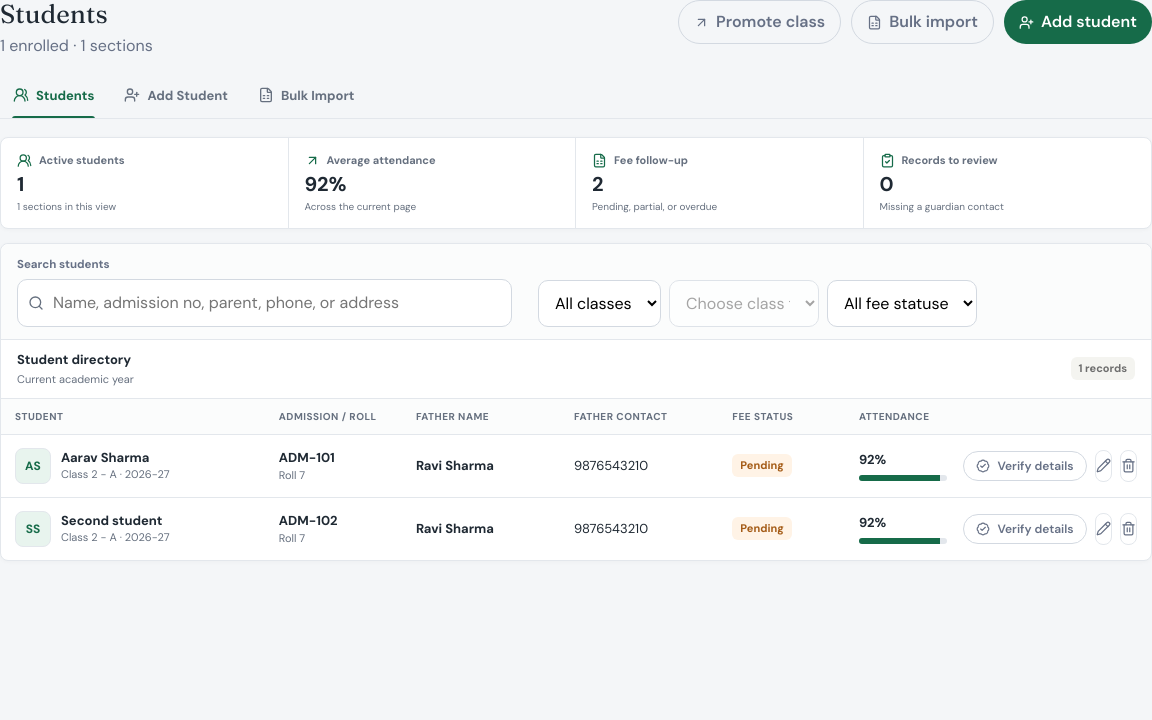
Test case: StudentsPanel › discards history from the closed selection after a different student is opened
Click the text "Aarav Sharma" at (105, 457), box [61,449,149,466]
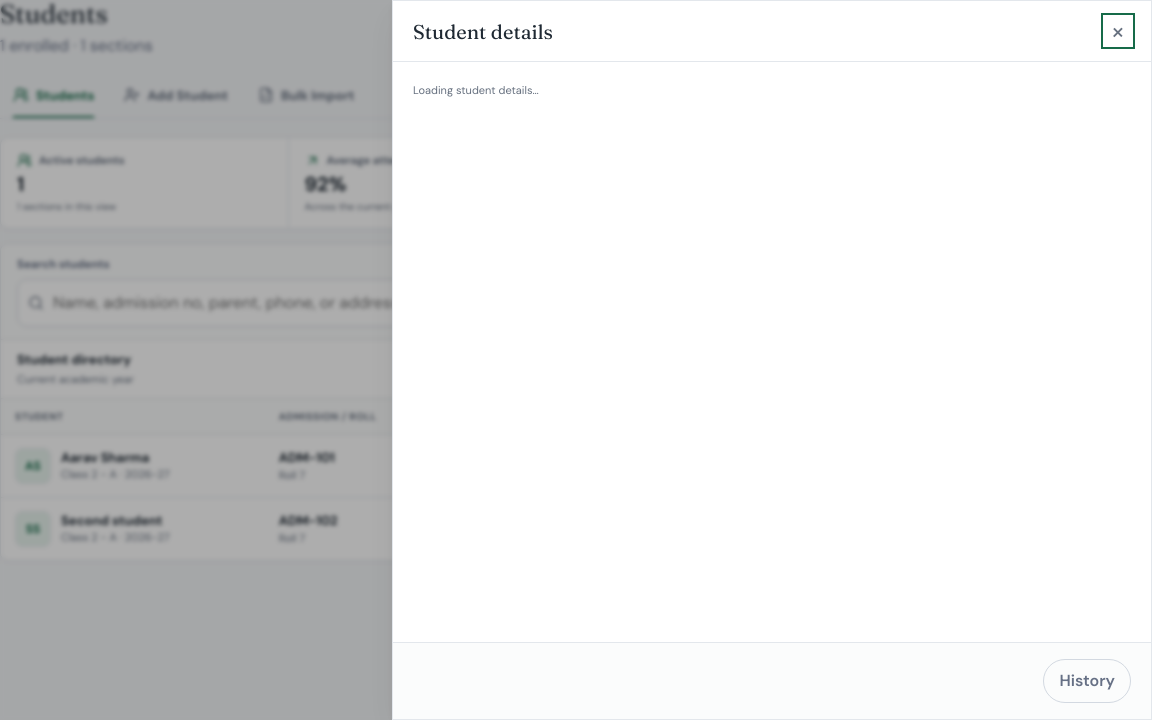
Click the button "History" at (1087, 681), box [1043,659,1131,703]
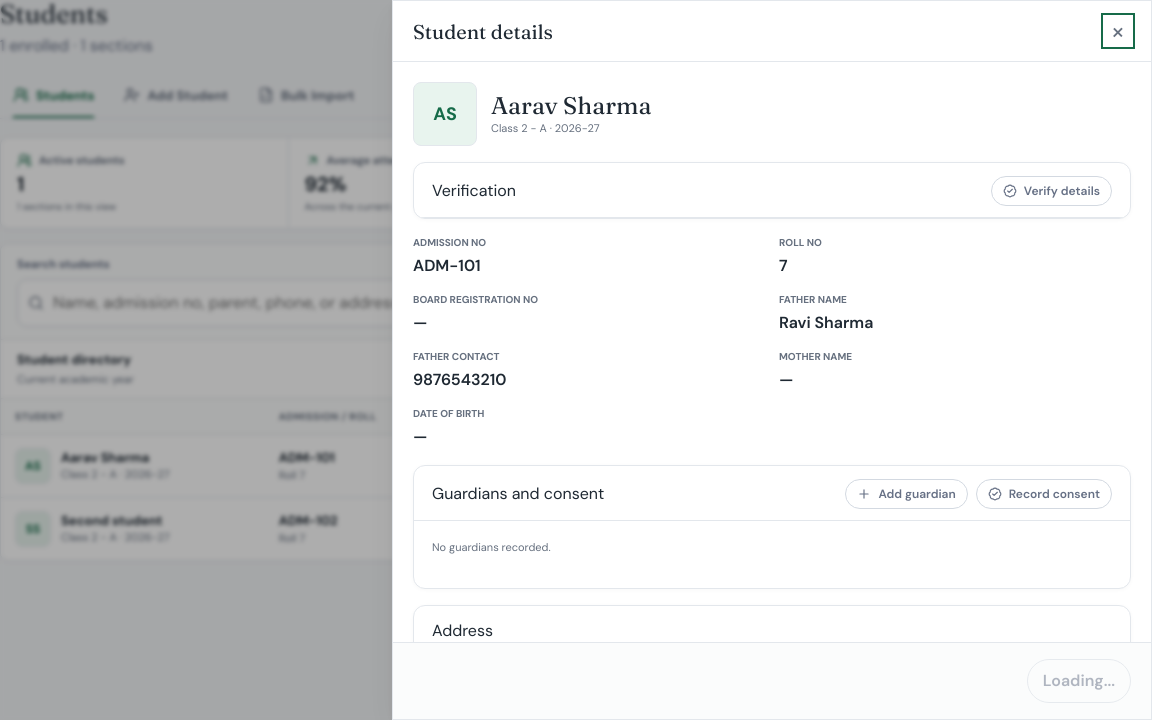
Click the button named "Close student details" at (1118, 31), box [1105,17,1131,45]
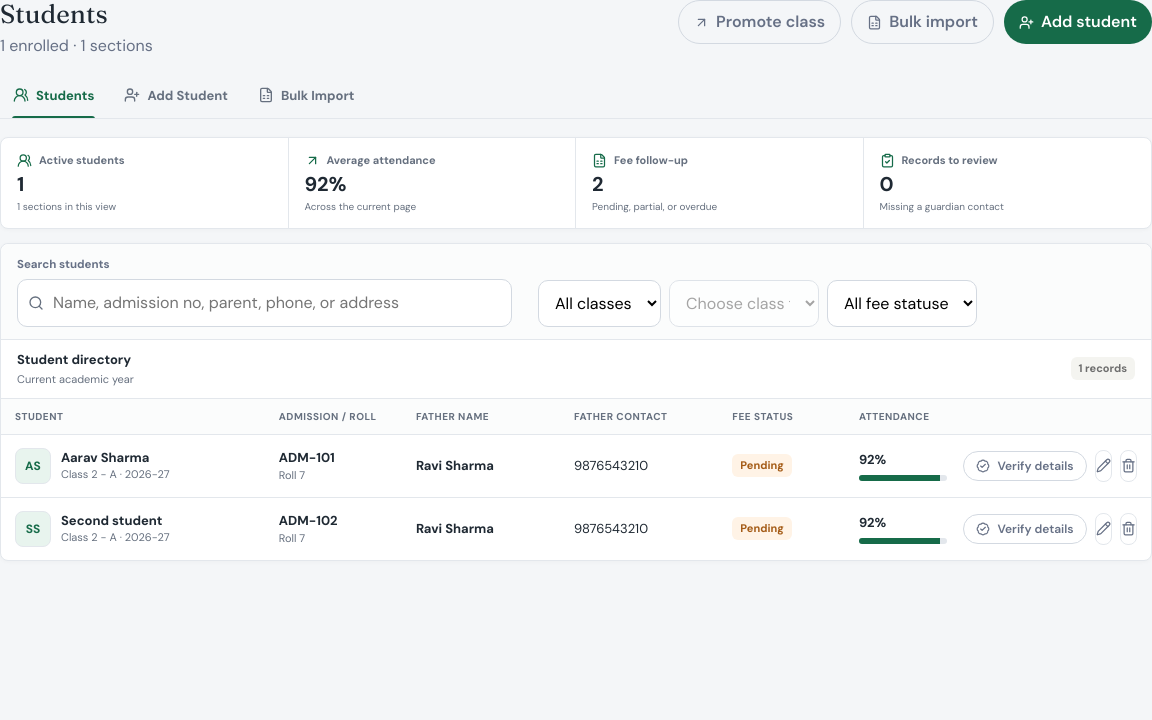
Click the text "Second student" at (112, 520), box [61,512,162,529]
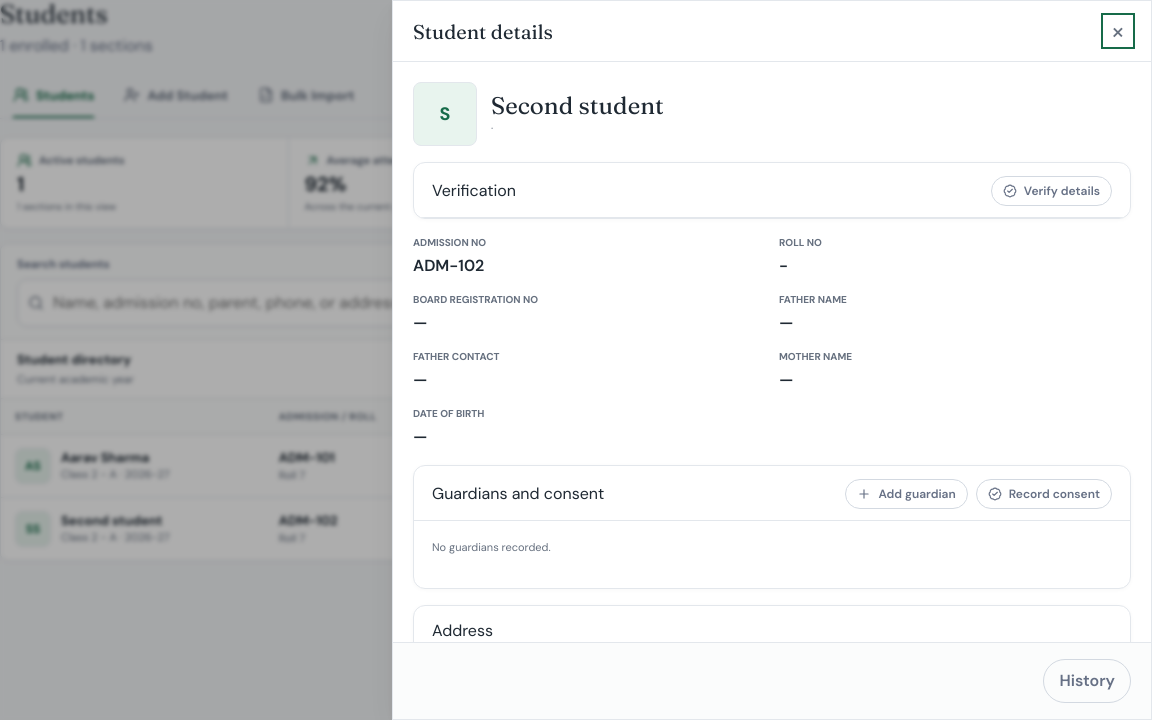
Result: the text "Second student" is shown at [491,91,664,120]
Result: the button "History" is shown at [1043,659,1131,703]
